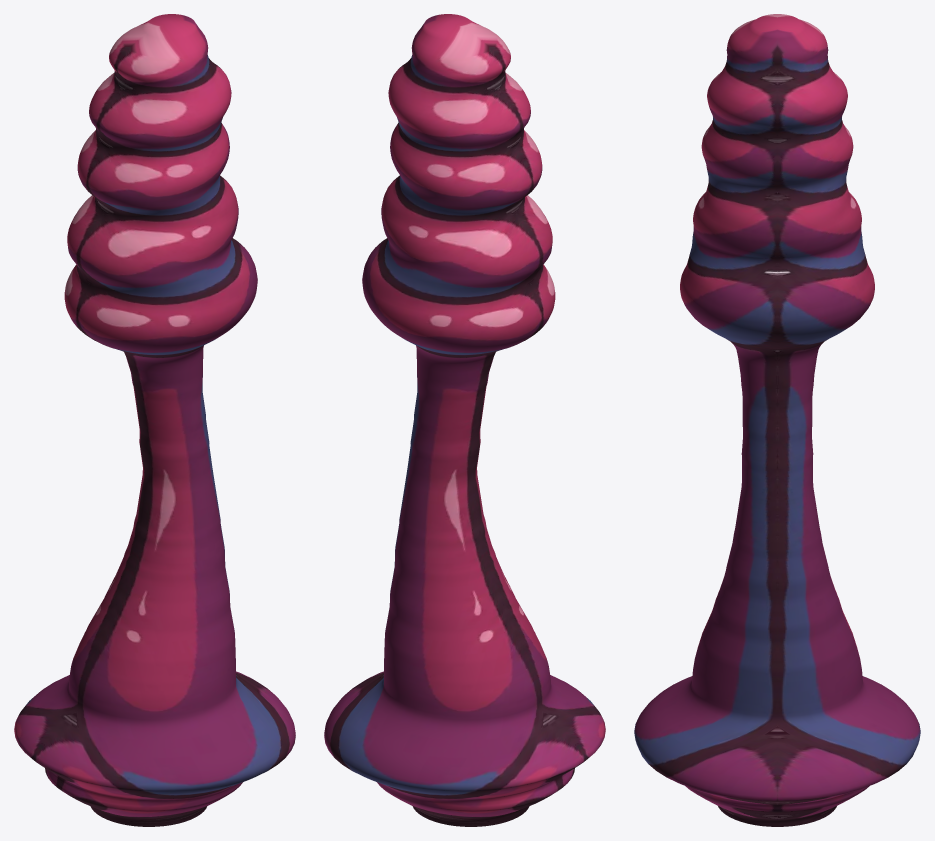
Rendered from plum_fungus.glb.
3 renders of one model, left to right at view 1: azimuth 30°, elevation 25°; view 2: azimuth 150°, elevation 25°; view 3: azimuth 270°, elevation 25°, orthographic. The views are drawn at different scales.
Visible parts, largest first — view 1: plum_fungus; view 2: plum_fungus; view 3: plum_fungus.
Boxes of the visible parts, box(x1,y1,x2,y2) form: plum_fungus: box(14, 14, 295, 826); plum_fungus: box(324, 14, 605, 826); plum_fungus: box(634, 14, 920, 826).
Bounding box in the file's own units: 0.9807 × 2.97 × 0.9749.
Materials: 1 (1 with a texture image).
